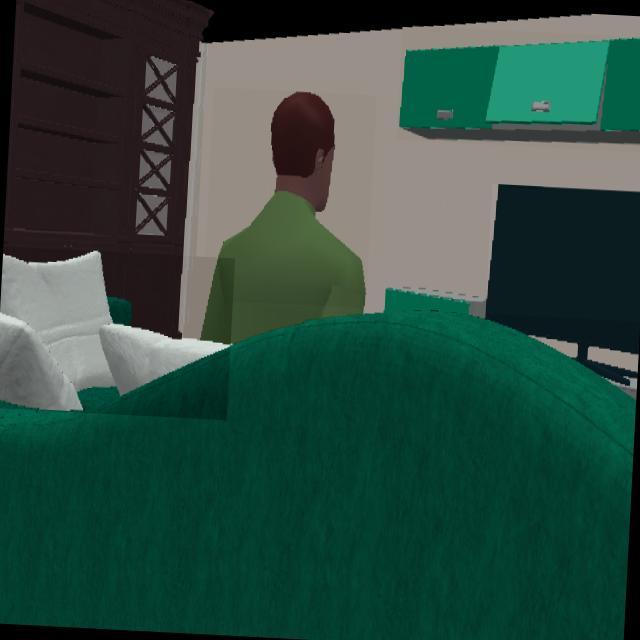bookshelf: (4, 0, 209, 333)
cabinet: (397, 38, 640, 146)
monitor: (485, 185, 640, 385)
person: (201, 92, 366, 346)
pillow: (0, 251, 230, 412)
sofa: (0, 312, 636, 640)
